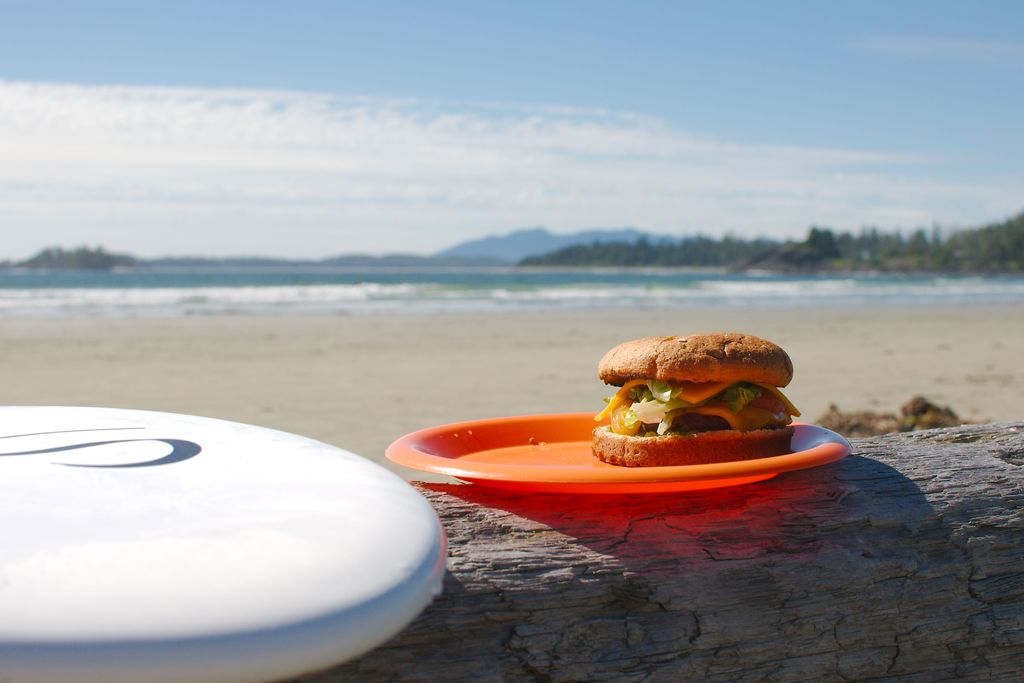Hamburger: (592, 329, 797, 470)
